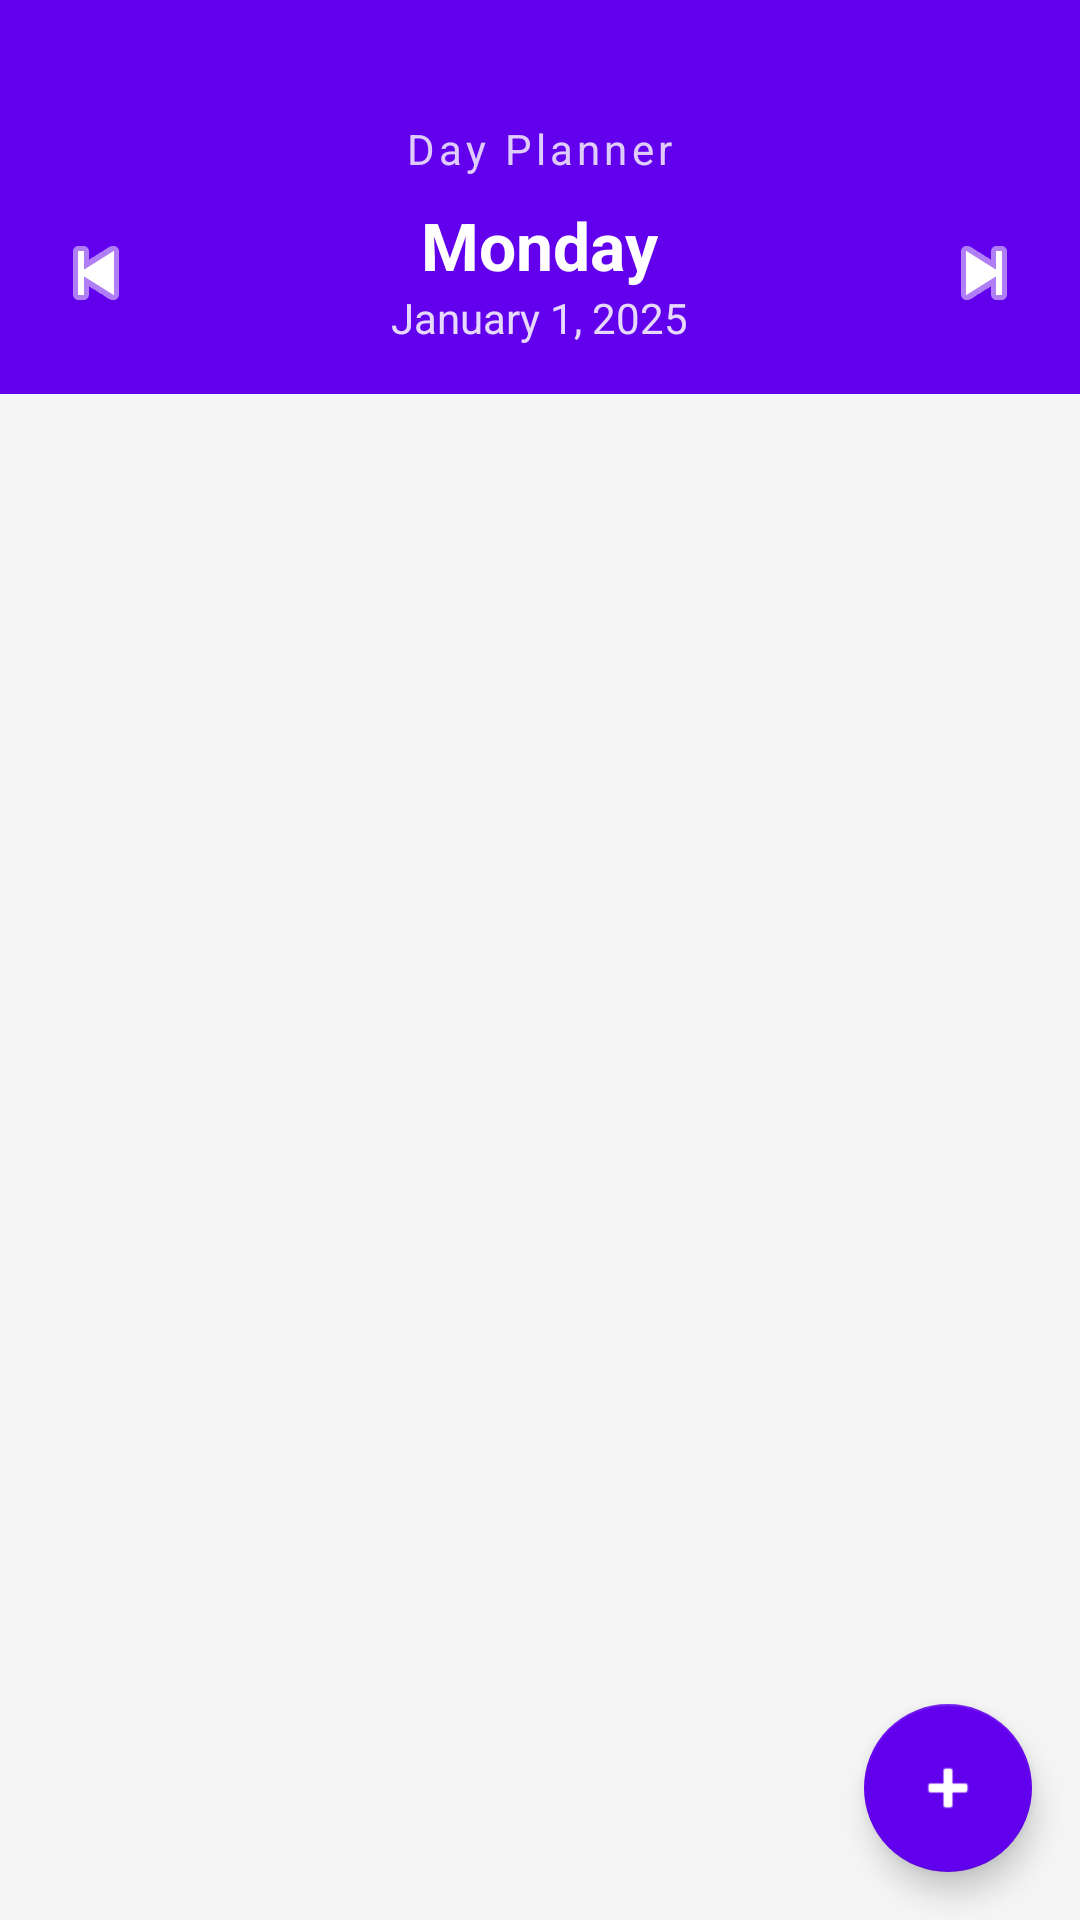

Icons on this 1080x1920 Android screen, each with the point to tap as [x,y]:
Add event: [948,1788]
Next day: [984,273]
Previous day: [96,273]
